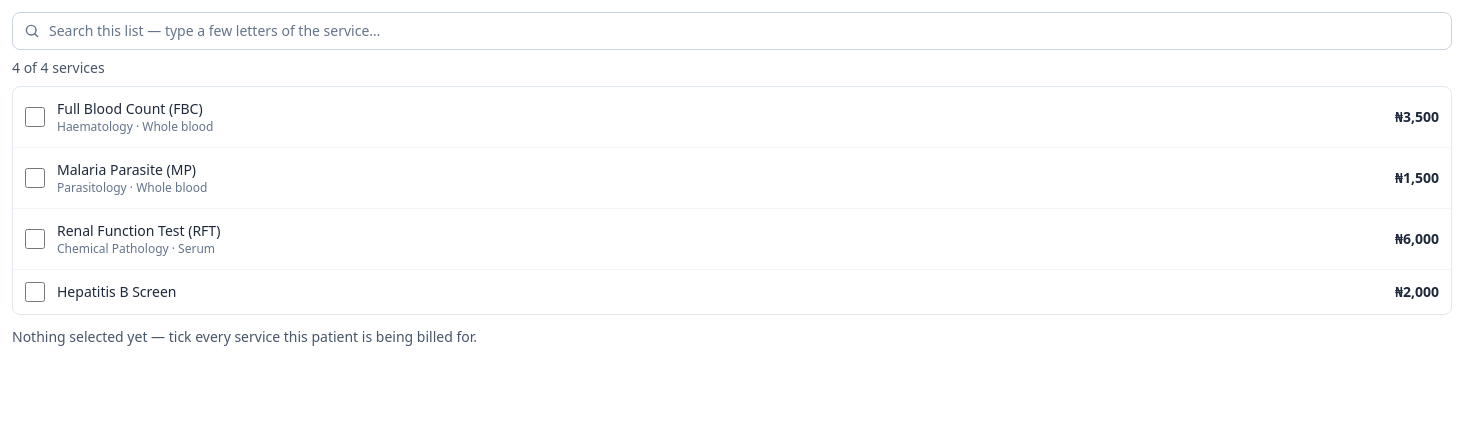
selecting, unselecting and the running total › removes one from the selected chips without touching the list
Click the checkbox labelled "Full Blood Count (FBC) Haematology · Whole blood ₦3,500" at (35, 117), box x1=25 y1=107 x2=45 y2=127
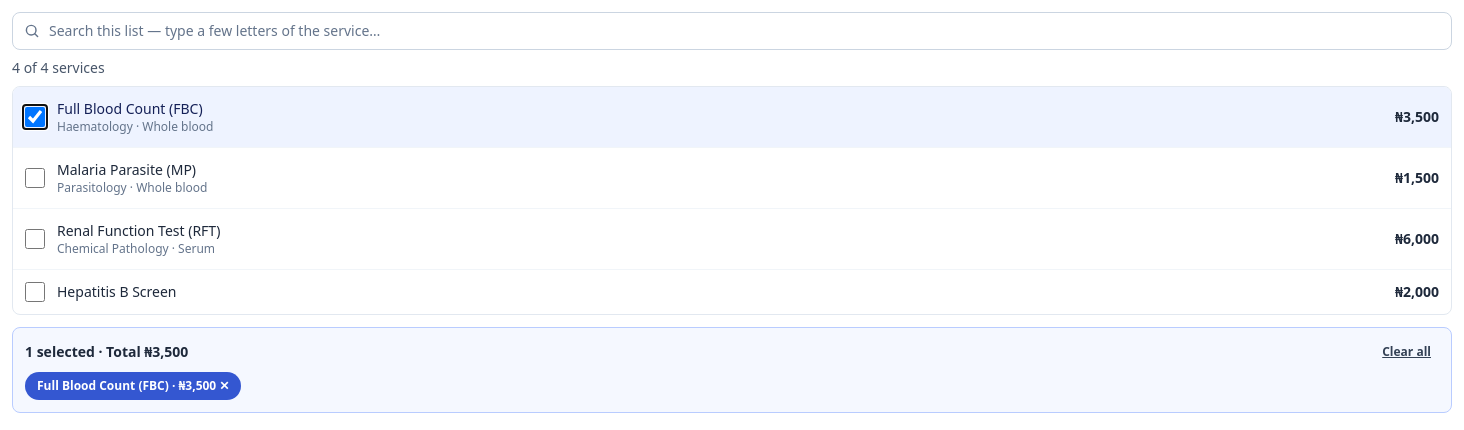
Click the checkbox labelled "Malaria Parasite (MP) Parasitology · Whole blood ₦1,500" at (35, 178), box x1=25 y1=168 x2=45 y2=188
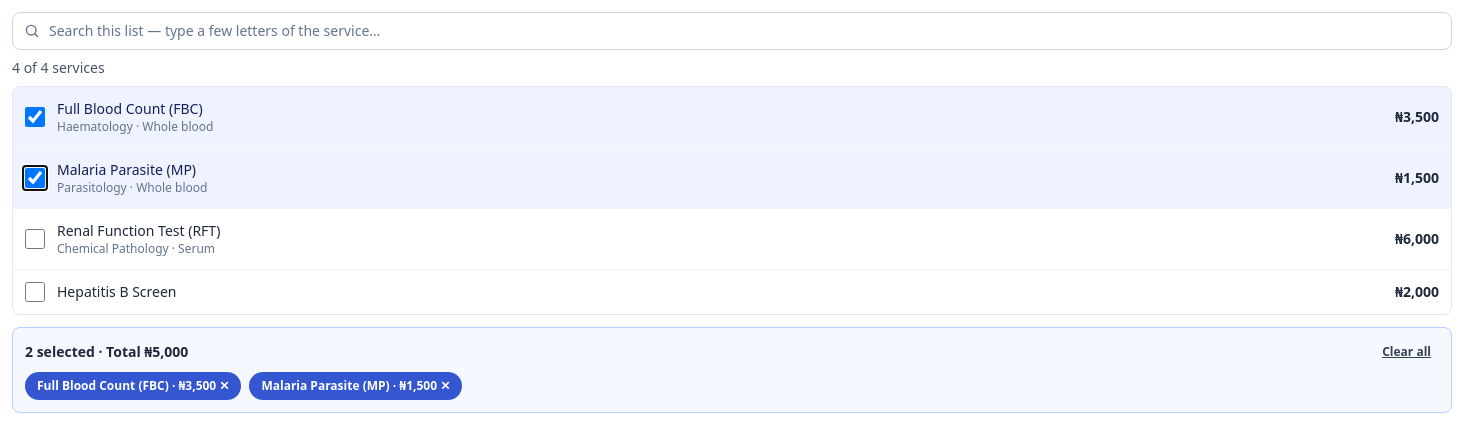
Click the button with aria-label "Remove Malaria Parasite (MP)" at (356, 386), box x1=249 y1=372 x2=462 y2=400
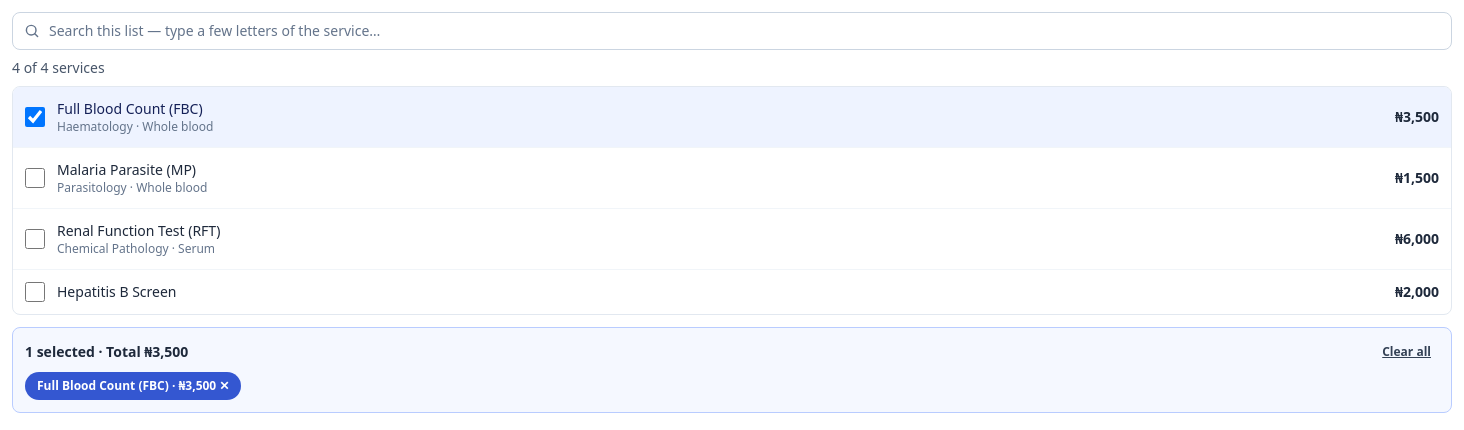
Now the text "1 selected · Total ₦3,500" is shown, box x1=25 y1=342 x2=188 y2=362
